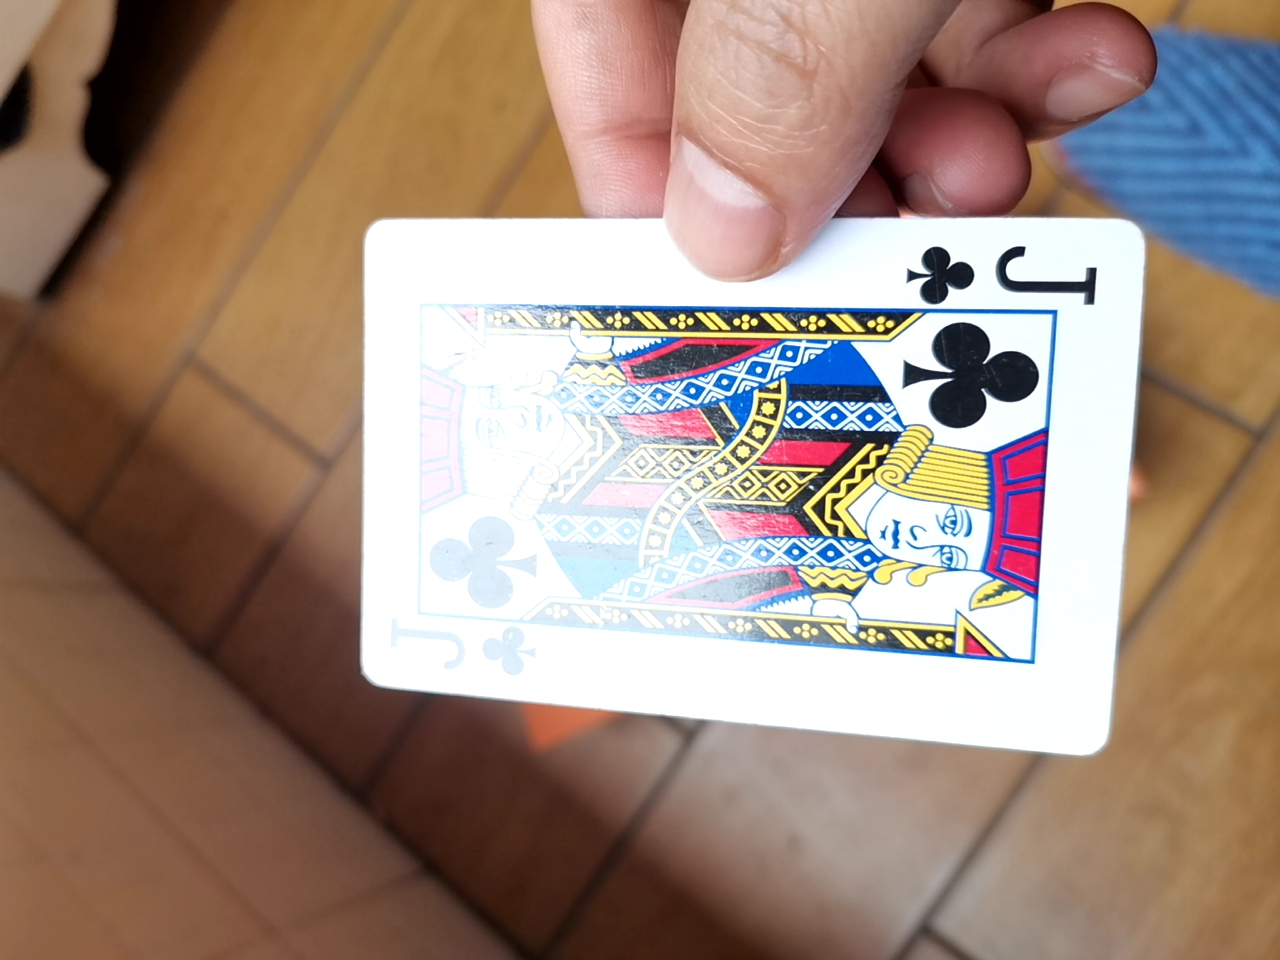mh j: (305, 202, 1139, 763)
